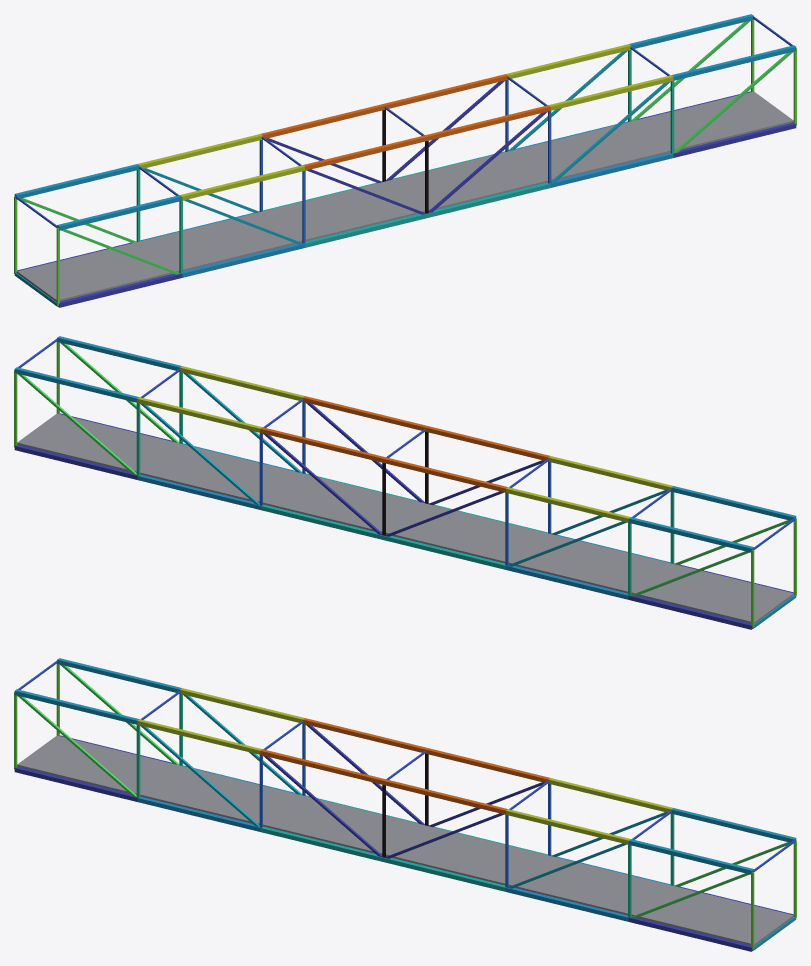
Rendered from 30_3_6_HEA200.glb.
3 renders of one model, top to bottom at view 1: azimuth 30°, elevation 25°; view 2: azimuth 150°, elevation 25°; view 3: azimuth 330°, elevation 25°, orthographic.
Size of the model in its own units: 30.09 by 3.16 by 3.16.
